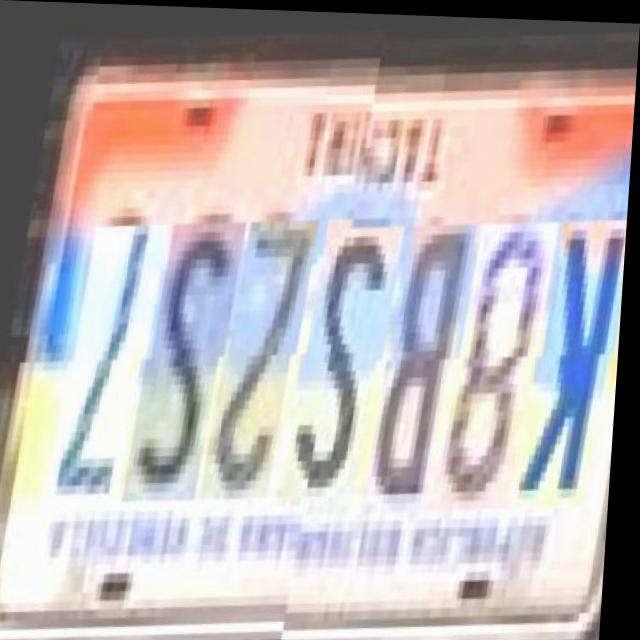2: (202, 210, 307, 495)
7: (47, 212, 158, 498)
8: (433, 204, 550, 499)
b: (366, 205, 468, 499)
k: (516, 202, 627, 497)
s: (278, 208, 395, 502), (124, 211, 235, 497)
